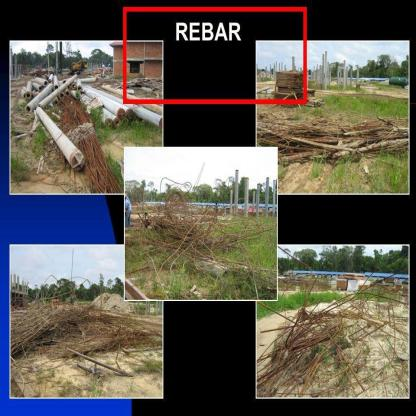rebar: (257, 286, 409, 394), (141, 186, 255, 271), (9, 300, 159, 364), (256, 113, 409, 158), (61, 93, 120, 197)
